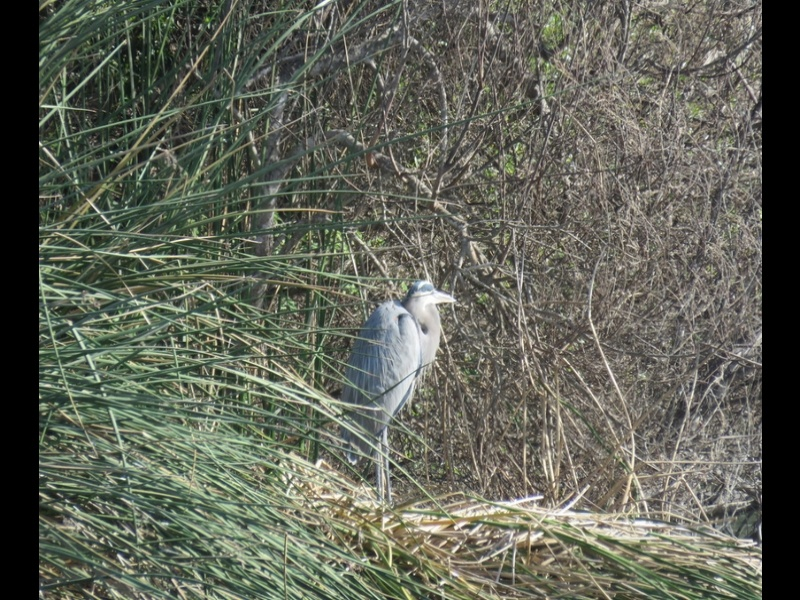heron: (333, 278, 458, 504)
